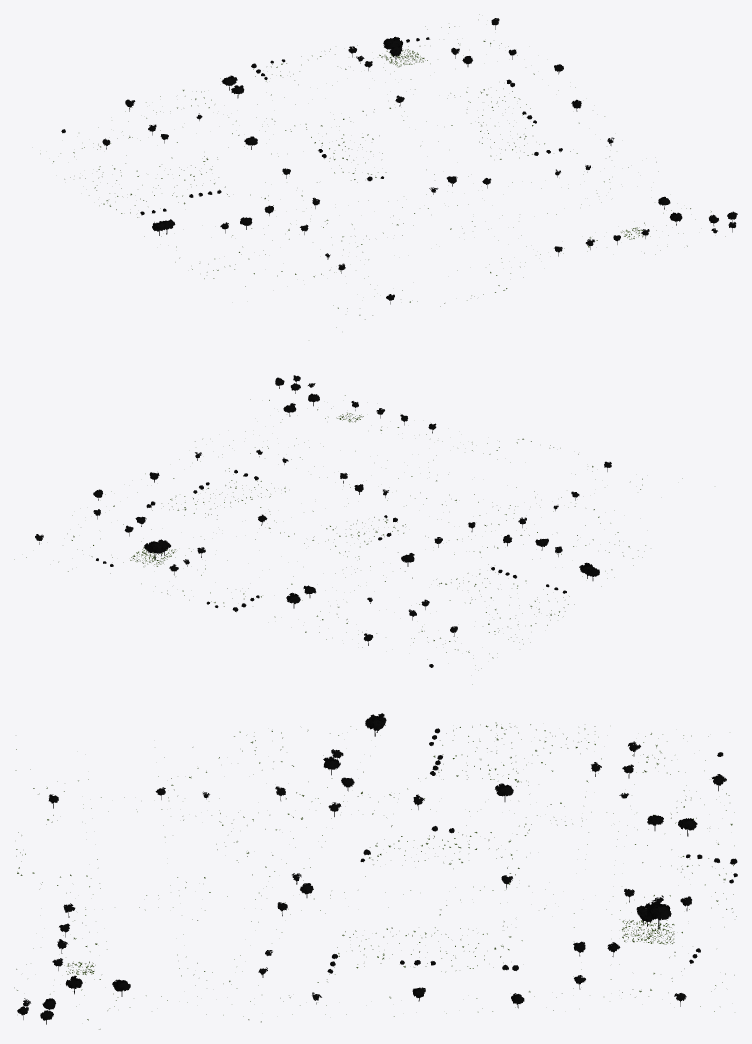
The model's file is Vegetation.fbx.
The picture shows the model from 3 angles, top to bottom: view 1: azimuth 30°, elevation 25°; view 2: azimuth 150°, elevation 25°; view 3: azimuth 270°, elevation 25°; orthographic projection. The views are drawn at different scales.
Parts seen in each view (by area): view 1: EXPORT_OT_Vegetation_SA_M01_01_S02_02; view 2: EXPORT_OT_Vegetation_SA_M01_01_S02_02; view 3: EXPORT_OT_Vegetation_SA_M01_01_S02_02.
Part boxes in pixels (x1,y1,x2,y2): EXPORT_OT_Vegetation_SA_M01_01_S02_02: (40, 14, 737, 327); EXPORT_OT_Vegetation_SA_M01_01_S02_02: (14, 375, 682, 684); EXPORT_OT_Vegetation_SA_M01_01_S02_02: (14, 713, 737, 1029).
Bounding box in the file's own units: 249 × 22.18 × 251.
